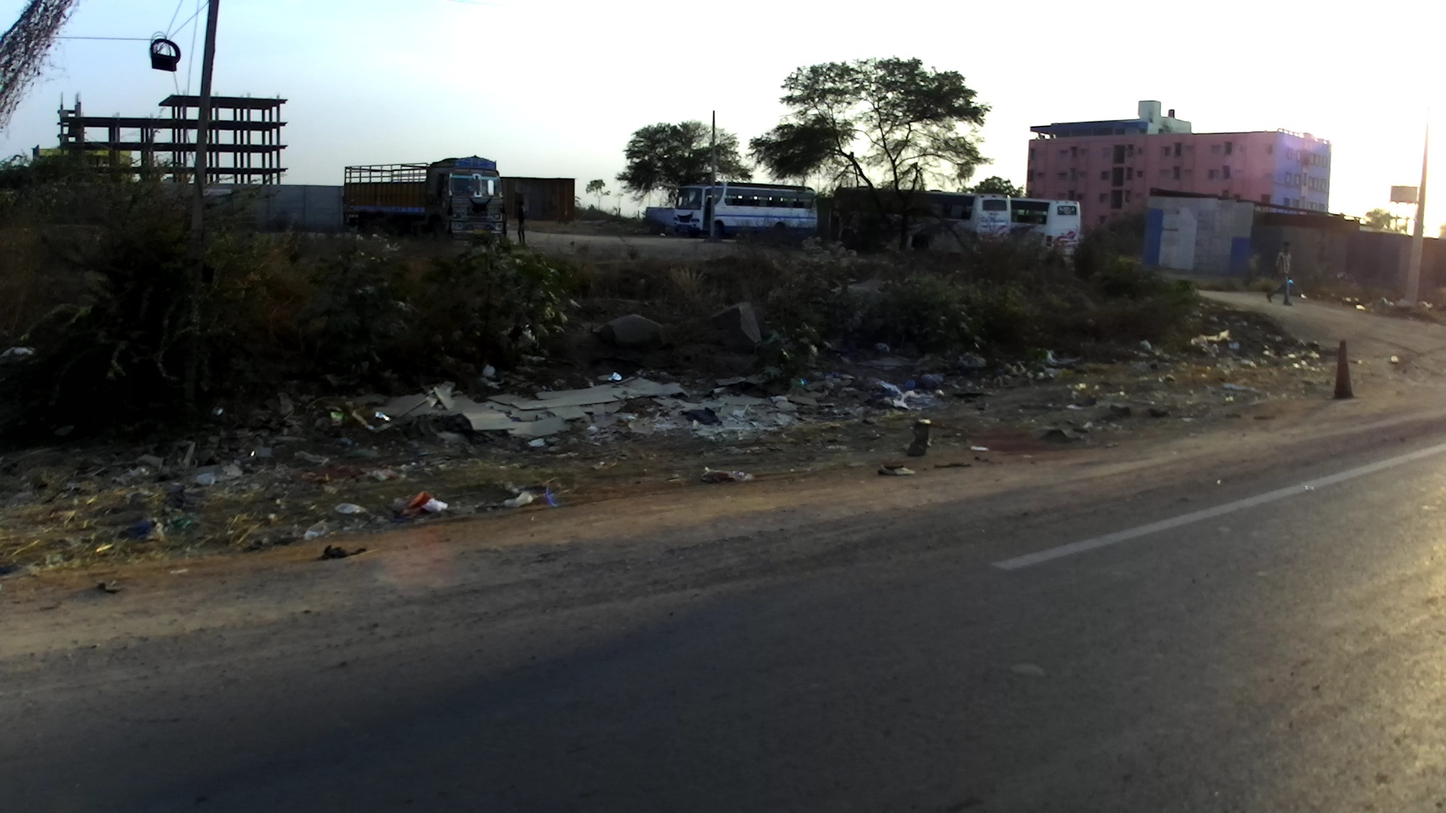bus: (826, 183, 1015, 262), (675, 176, 822, 245), (1012, 192, 1084, 254)
person: (1264, 242, 1299, 311), (511, 202, 529, 247)
truck: (336, 150, 512, 245)
